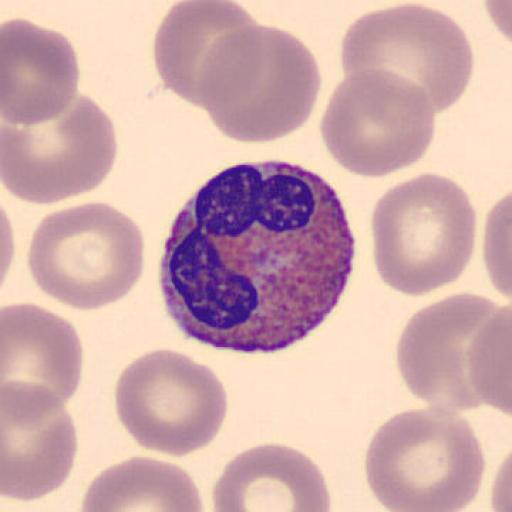RBC: (194, 22, 324, 144), (339, 1, 476, 115), (370, 170, 478, 298), (2, 92, 120, 206), (395, 291, 504, 413), (112, 346, 229, 459), (27, 200, 145, 312), (363, 405, 486, 512), (320, 68, 438, 179), (152, 0, 260, 106), (2, 378, 78, 504), (2, 300, 85, 409), (1, 16, 81, 126), (212, 440, 333, 512), (78, 454, 206, 512), (466, 304, 512, 418), (482, 190, 512, 304), (490, 447, 512, 512), (0, 200, 17, 281), (483, 0, 512, 43)
WBC: (159, 158, 357, 355)
